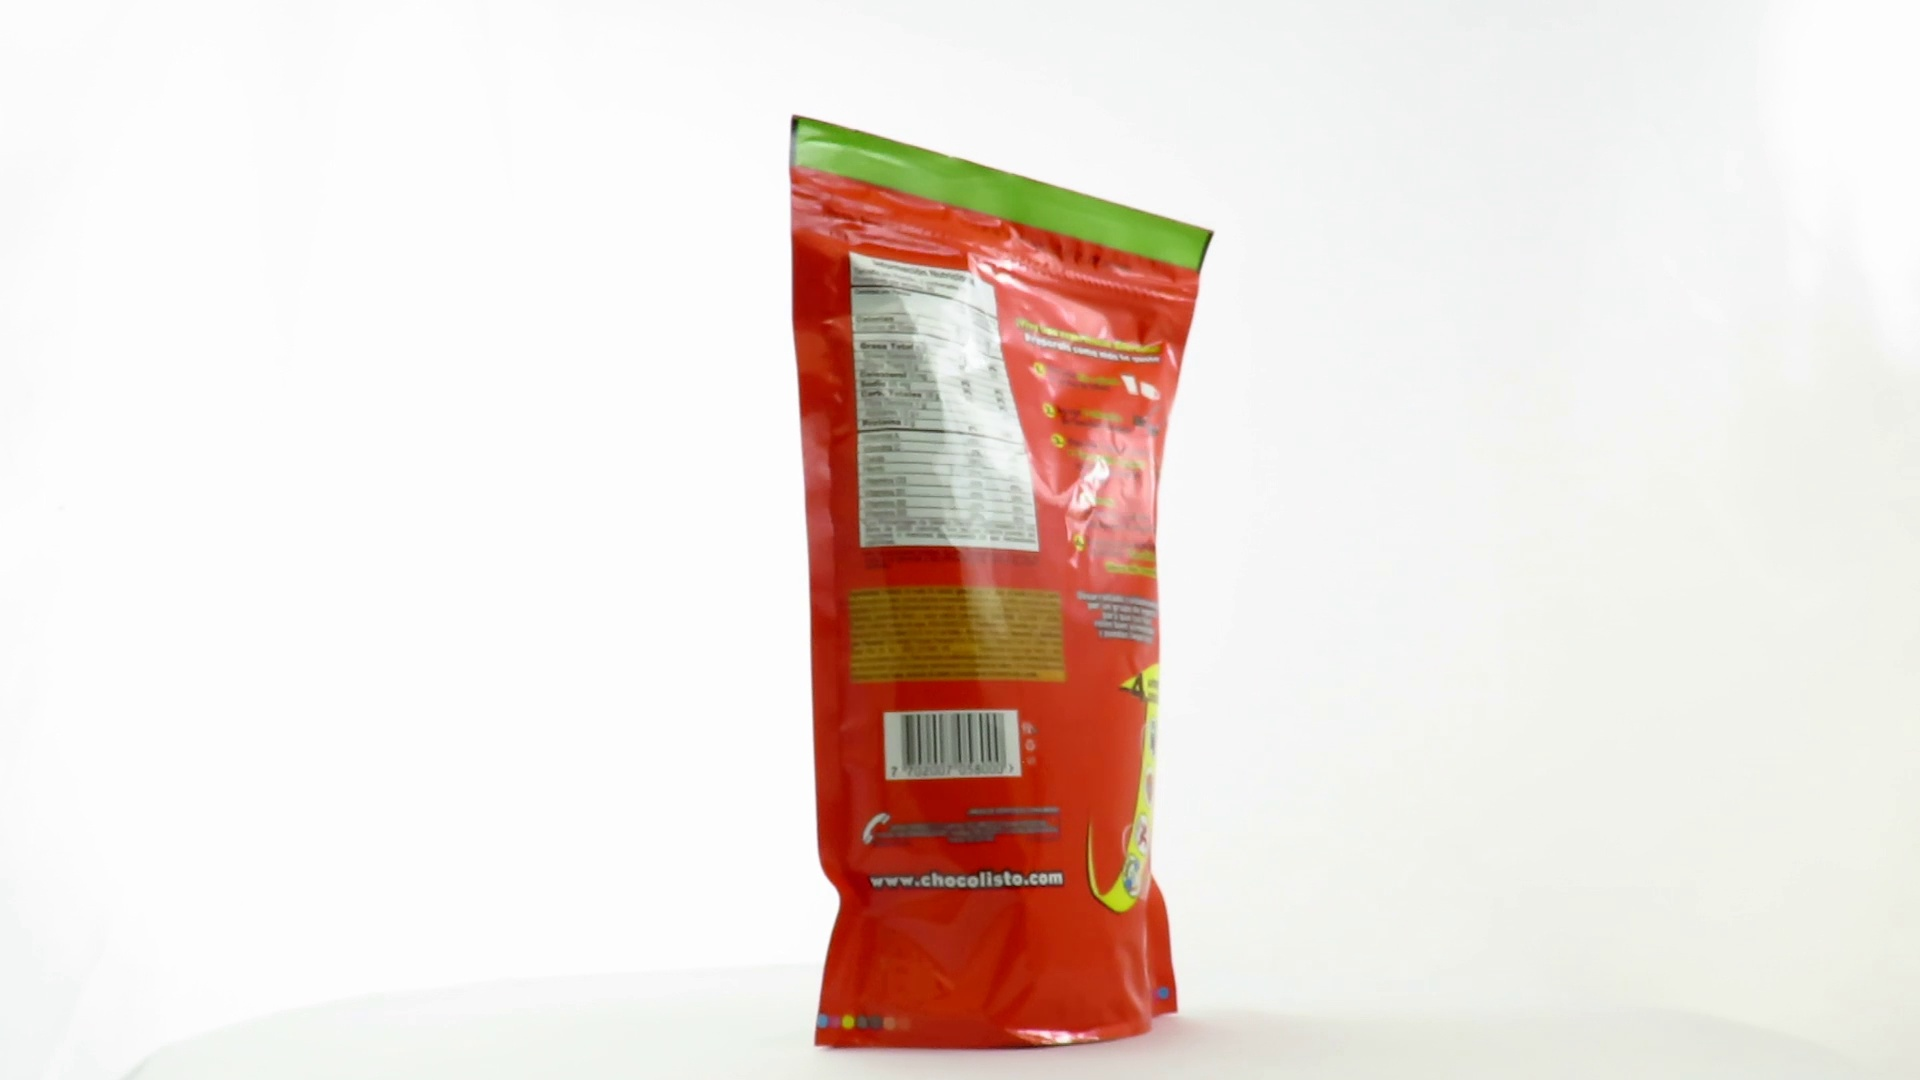COL0170102DYP50000: (785, 109, 1220, 1058)
